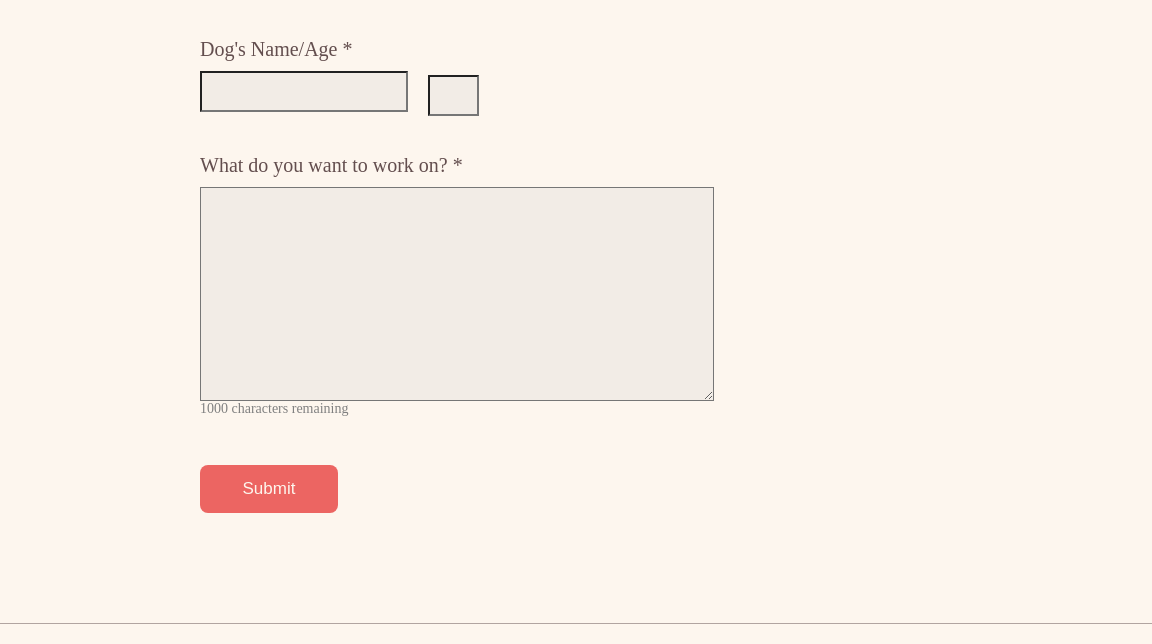
Scenario: Contact Form Tests › shows all error messages when the form is empty
(page scrolled)
Click the submit button: click(269, 489) [200,465,338,513]
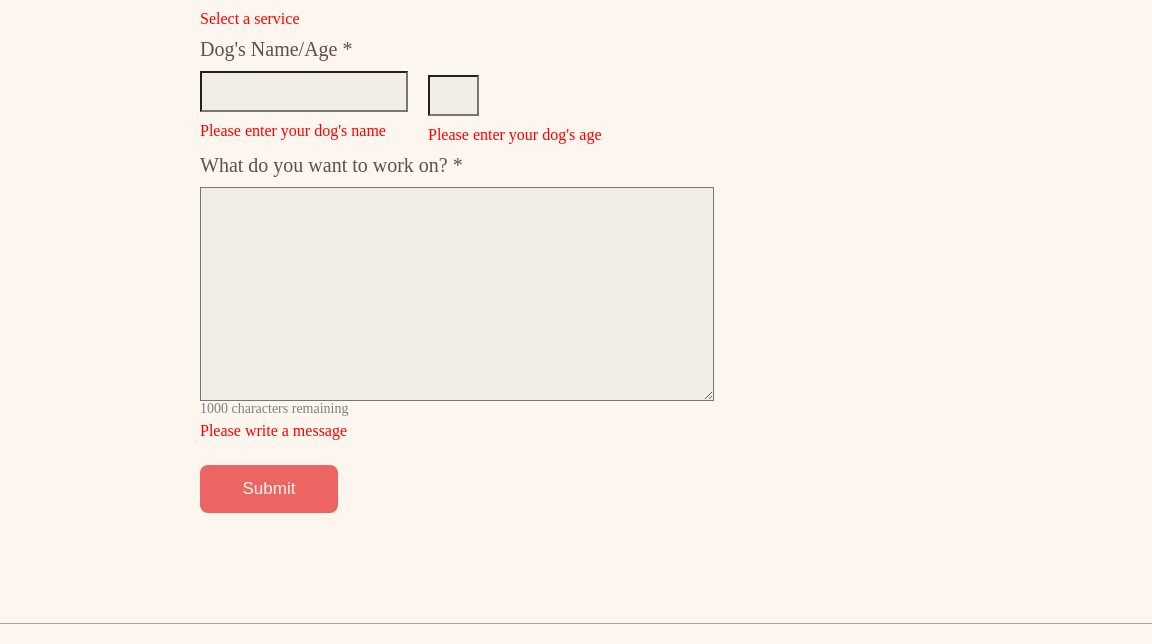
Expected: the text "Select a service" is shown, [200,10,300,27]
Expected: the text "Please enter your dog's name" is shown, [200,122,386,139]
Expected: the text "Please enter your dog's age" is shown, [428,126,602,144]
Scroll
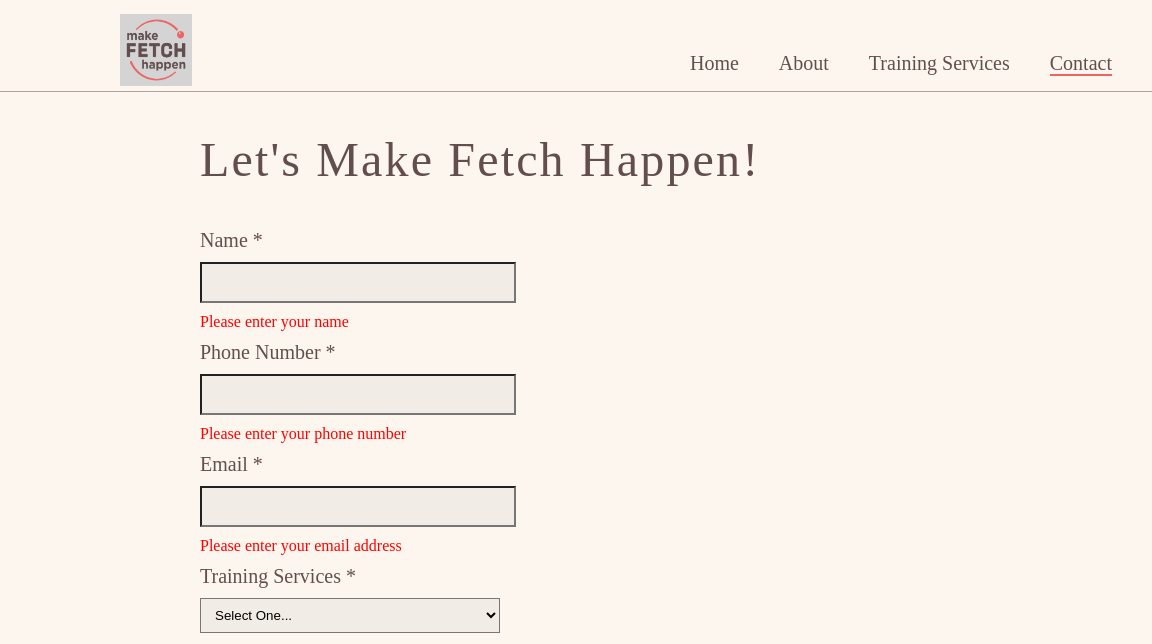
In the field with id "name": (358, 283) [200,262,516,303], type "John Doe"
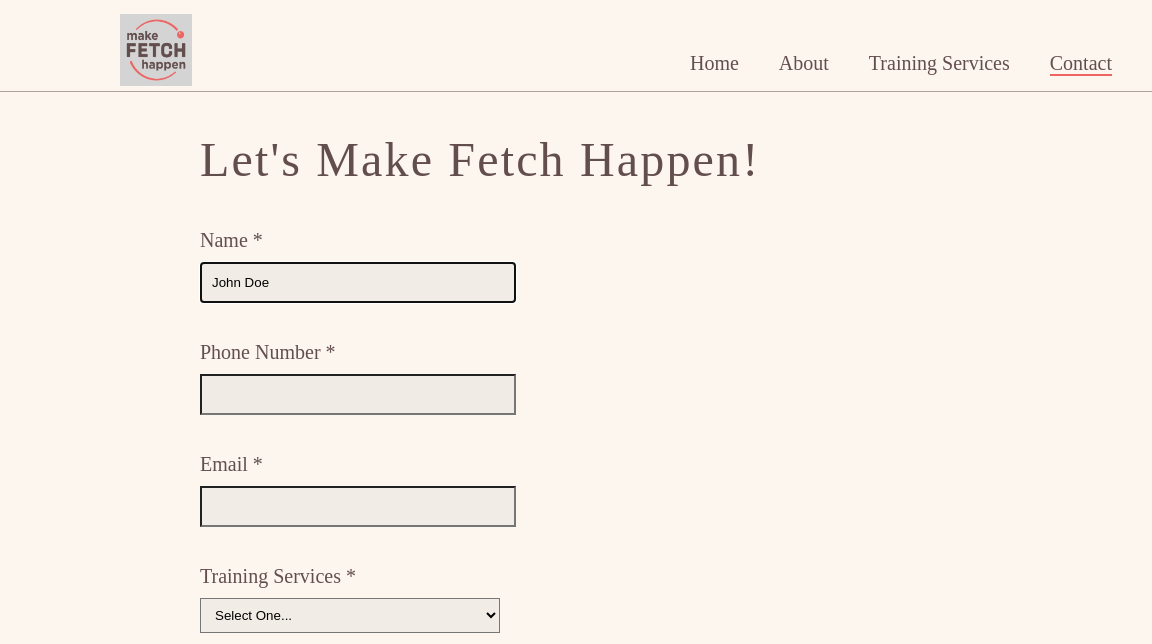
Expected: the text "Please enter your name" is gone
Expected: the text "Please enter your phone number" is gone
Expected: the text "Please enter your email address" is gone
